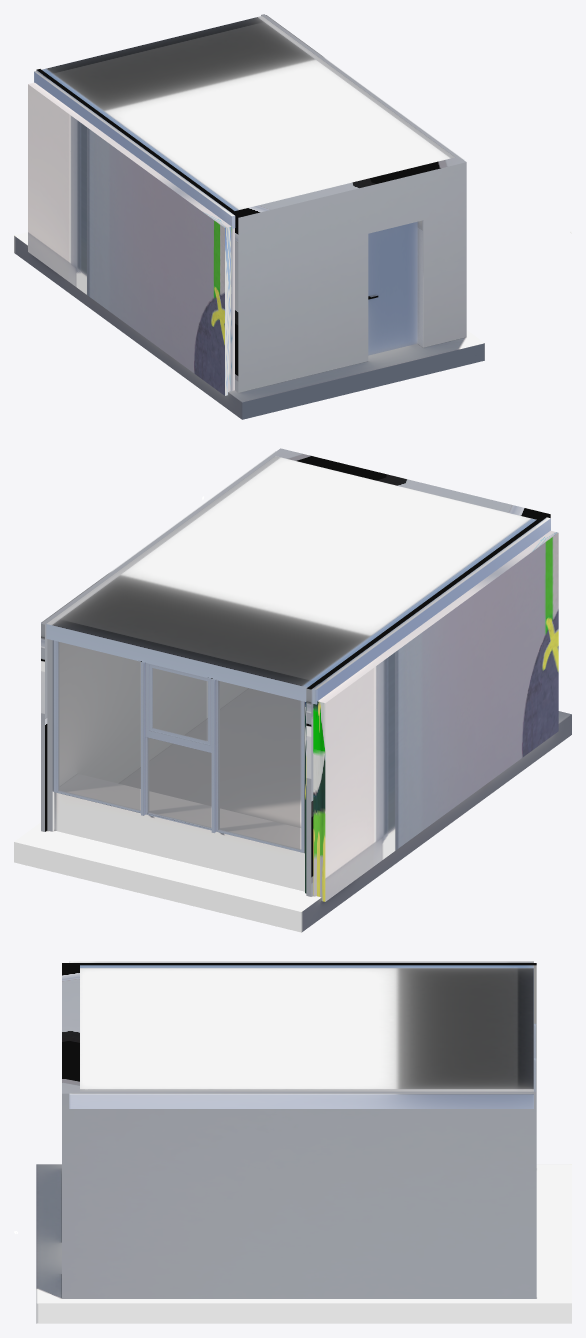
The picture shows the model from 3 angles, top to bottom: view 1: azimuth 30°, elevation 25°; view 2: azimuth 150°, elevation 25°; view 3: azimuth 270°, elevation 25°; orthographic projection. The views are drawn at different scales.
Parts seen in each view (by area): view 1: 顶面, 侧边, 鸡兔同笼, 地面, 物件_1086; view 2: 顶面, 鸡兔同笼, 物件_336, 地面, 婴, 露台, 侧边, 物件_402; view 3: 侧边, 顶面, 地面.
Part boxes in pixels (box(x1,y1,x2,y2)): 顶面: box(34, 15, 463, 228); 侧边: box(36, 14, 466, 392); 鸡兔同笼: box(28, 82, 234, 395); 地面: box(14, 232, 484, 419); 物件_1086: box(368, 221, 417, 355); 顶面: box(41, 451, 550, 704); 鸡兔同笼: box(305, 530, 558, 901); 物件_336: box(58, 642, 300, 849); 地面: box(14, 688, 571, 932); 婴: box(47, 639, 248, 831); 露台: box(54, 773, 304, 891); 侧边: box(41, 448, 550, 896); 物件_402: box(53, 640, 304, 853); 侧边: box(62, 963, 536, 1298); 顶面: box(69, 961, 533, 1108); 地面: box(36, 1164, 571, 1323).
Bounding box in the file's own units: 54.44 × 30.97 × 69.38.
Materials: 11 (8 with a texture image).
